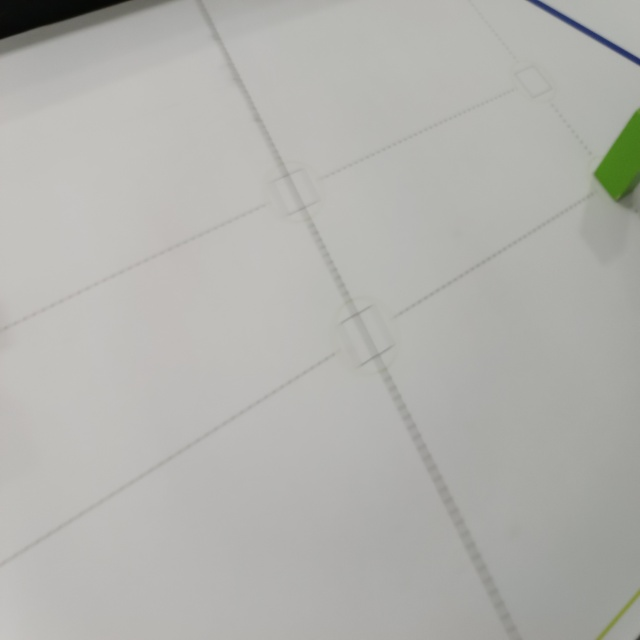blue line: (521, 0, 640, 70)
green rectangular prism: (592, 104, 640, 203)
